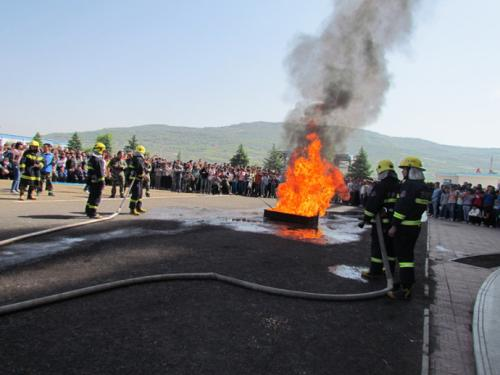fire: (270, 124, 354, 219)
